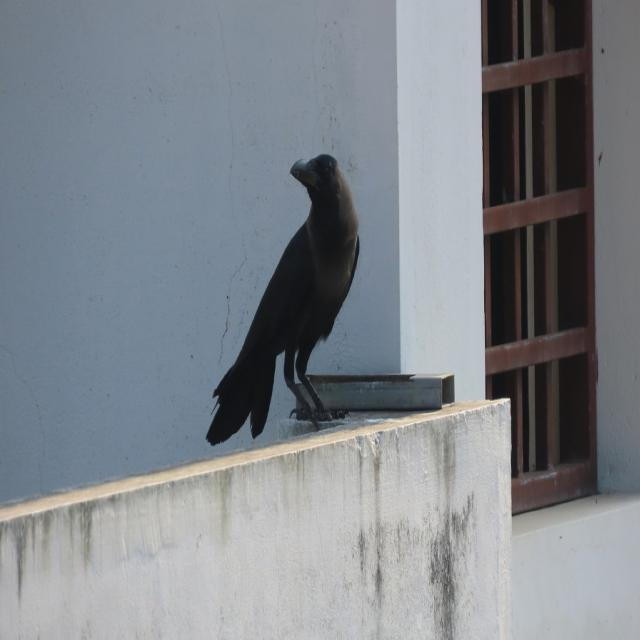bird: (204, 150, 362, 454)
